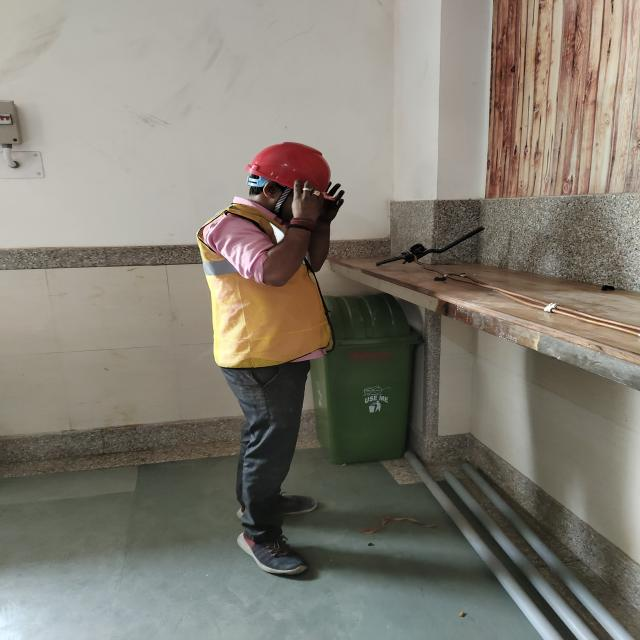safe: (198, 142, 345, 580)
